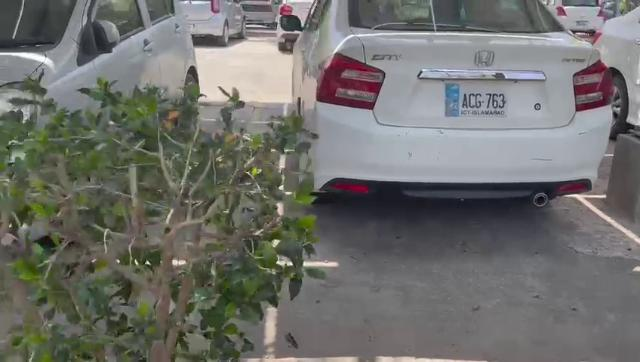plate: (442, 81, 510, 121)
